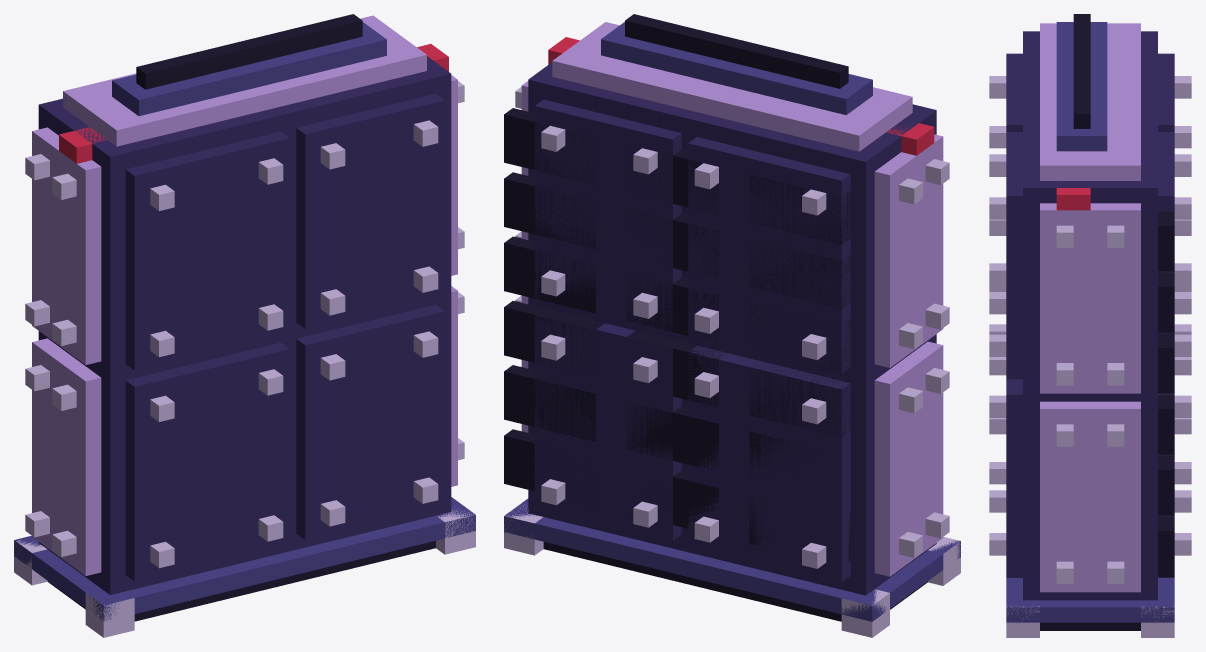
File: computer-core.lg.glb
The picture shows the model from 3 angles, left to right: view 1: azimuth 30°, elevation 25°; view 2: azimuth 150°, elevation 25°; view 3: azimuth 270°, elevation 25°; orthographic projection. The views are drawn at different scales.
Parts seen in each view (by area): view 1: computer-core.lg; view 2: computer-core.lg; view 3: computer-core.lg.
Part boxes in pixels (<box>): computer-core.lg: <box>14,14,475,637</box>; computer-core.lg: <box>504,14,960,637</box>; computer-core.lg: <box>989,14,1191,637</box>.
Size of the model in its own units: 1.62 by 2 by 0.75.
